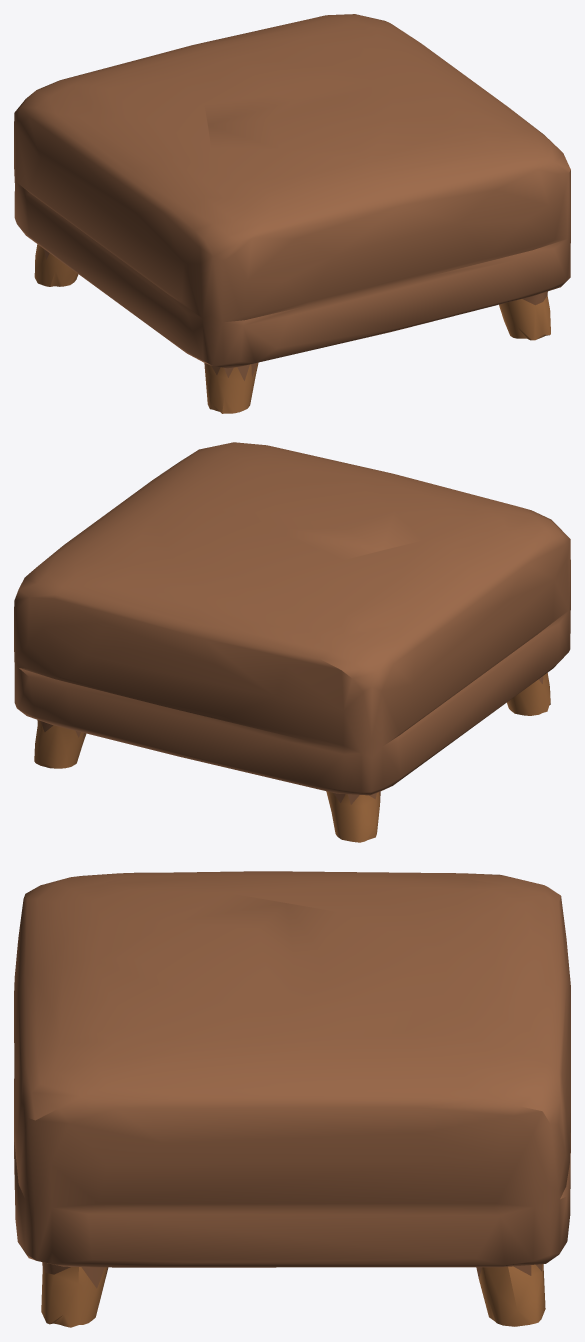
File: ottoman.glb
3 renders of one model, top to bottom at view 1: azimuth 30°, elevation 25°; view 2: azimuth 150°, elevation 25°; view 3: azimuth 270°, elevation 25°, orthographic. The views are drawn at different scales.
Visible parts, largest first — view 1: ottoman_fabric, ottoman_wood; view 2: ottoman_fabric, ottoman_wood; view 3: ottoman_fabric, ottoman_wood.
Boxes of the visible parts, <box> form: ottoman_fabric: <box>14,14,570,380</box>; ottoman_wood: <box>34,244,550,413</box>; ottoman_fabric: <box>14,442,570,804</box>; ottoman_wood: <box>34,673,550,842</box>; ottoman_fabric: <box>14,871,570,1288</box>; ottoman_wood: <box>41,1264,545,1327</box>.
Size of the model in its own units: 0.8697 by 0.4599 by 0.8698.
